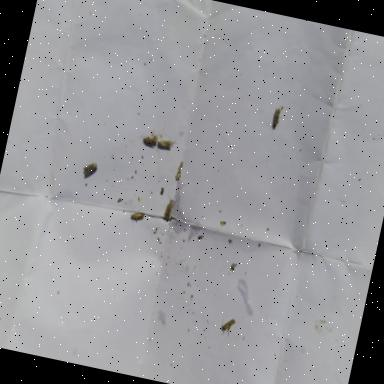pbw: (154, 121, 180, 158), (138, 127, 160, 148), (162, 190, 176, 220), (268, 104, 284, 130), (219, 316, 236, 338), (127, 208, 145, 228), (82, 160, 98, 176)
